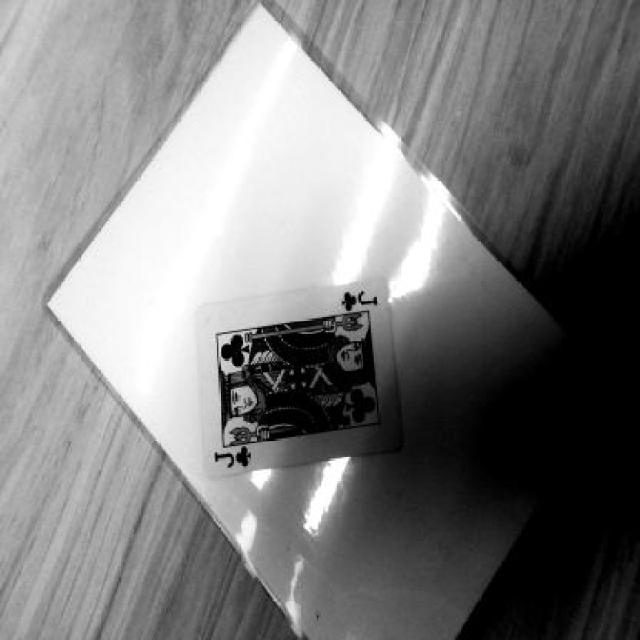JS: (332, 280, 393, 332), (214, 436, 268, 487)
